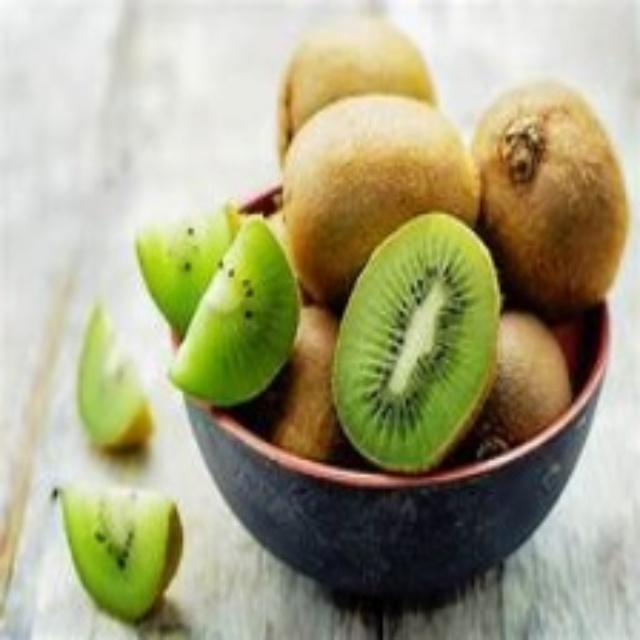kiwi: (62, 218, 290, 617), (333, 216, 501, 480), (470, 82, 632, 322), (275, 99, 479, 288)
